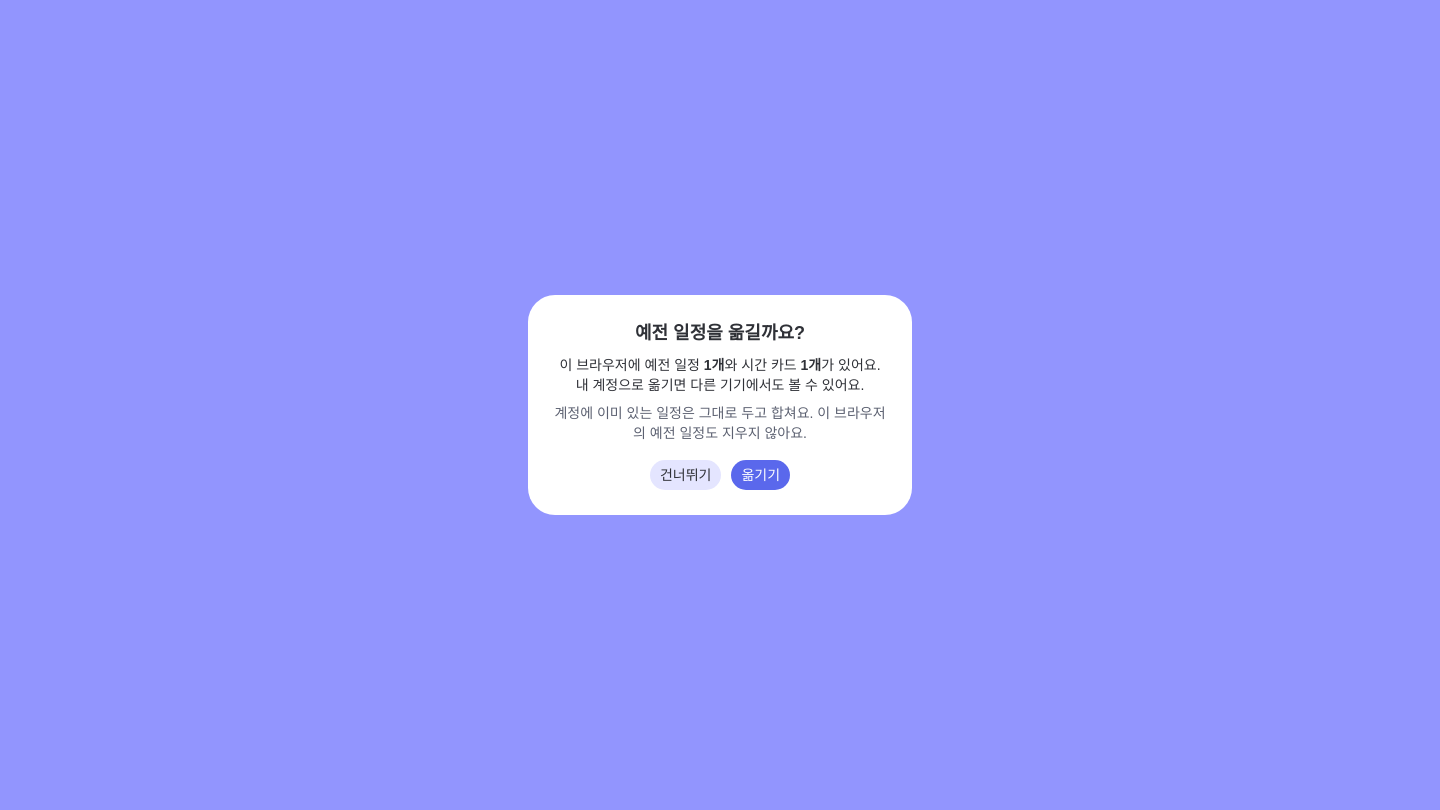
it: PlannerLoader: 로그인한 사람의 일정 불러오기 › 서랍 속 예전 일정 옮기기 › [옮기기]: 계정 일정과 합쳐 수파베이스에 쓰고, 다시 묻지 않는다. 서랍은 그대로
The width and height of the screenshot is (1440, 810).
Expected: the dialog named "예전 일정 옮기기" shows "예전 일정 1개와 시간 카드 1개", [528,295,912,515]
Click the button "옮기기": point(761, 475) [730,459,791,491]
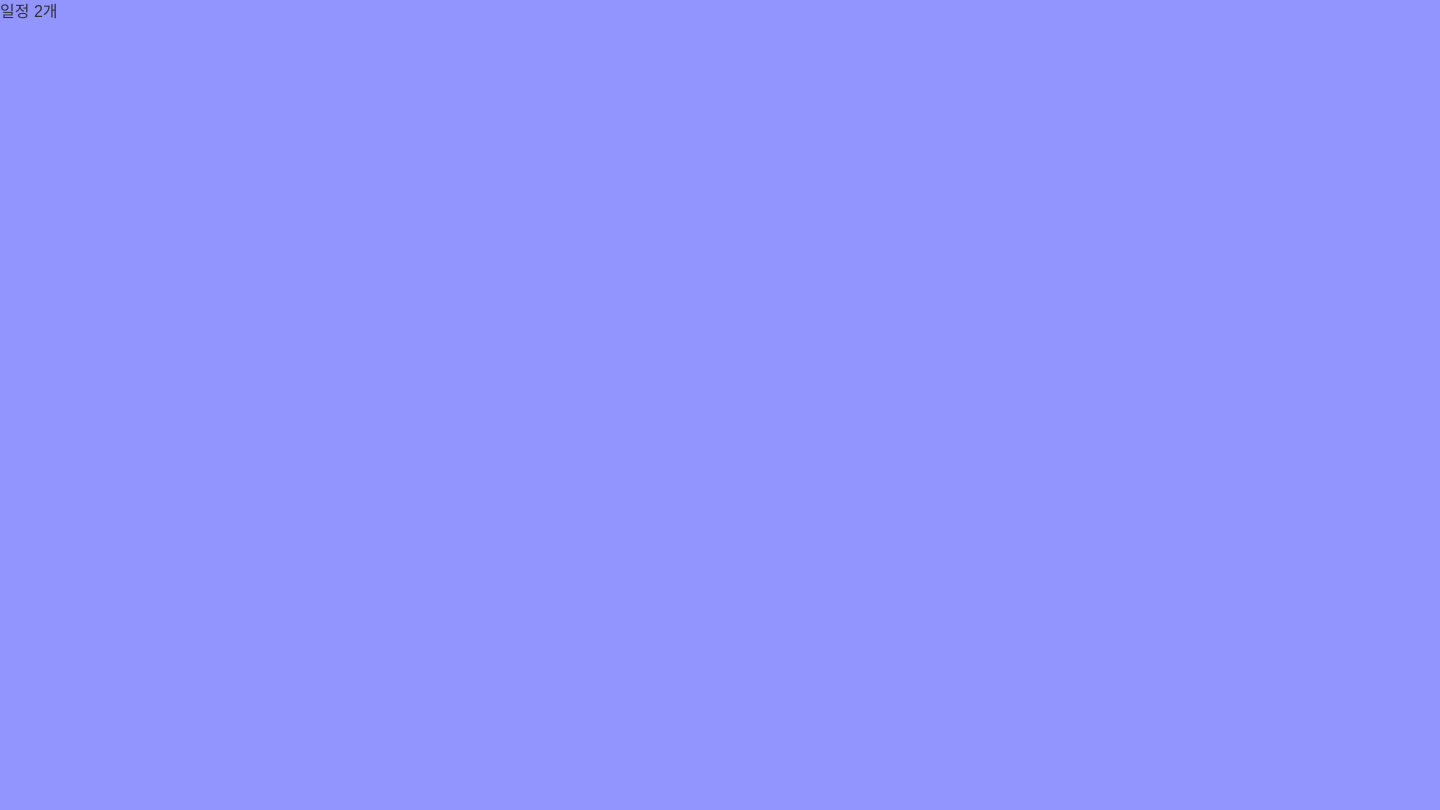
Expected: the text "일정 2개" is shown, [0,3,58,20]
